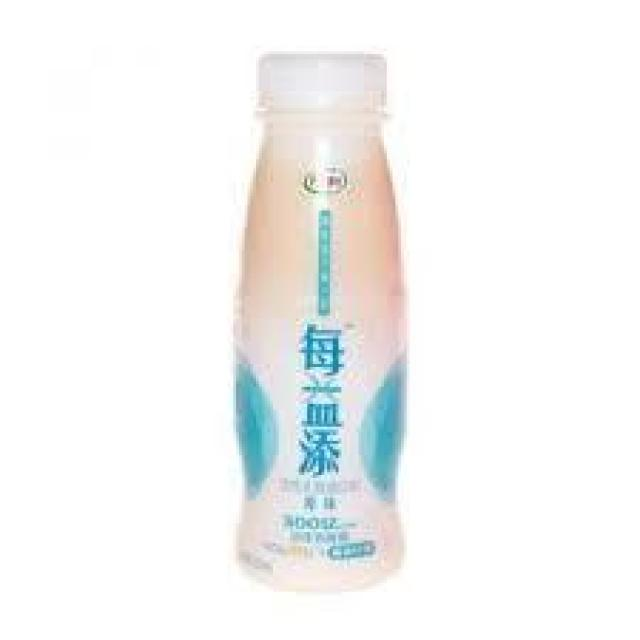inorganic: (230, 51, 412, 594)
